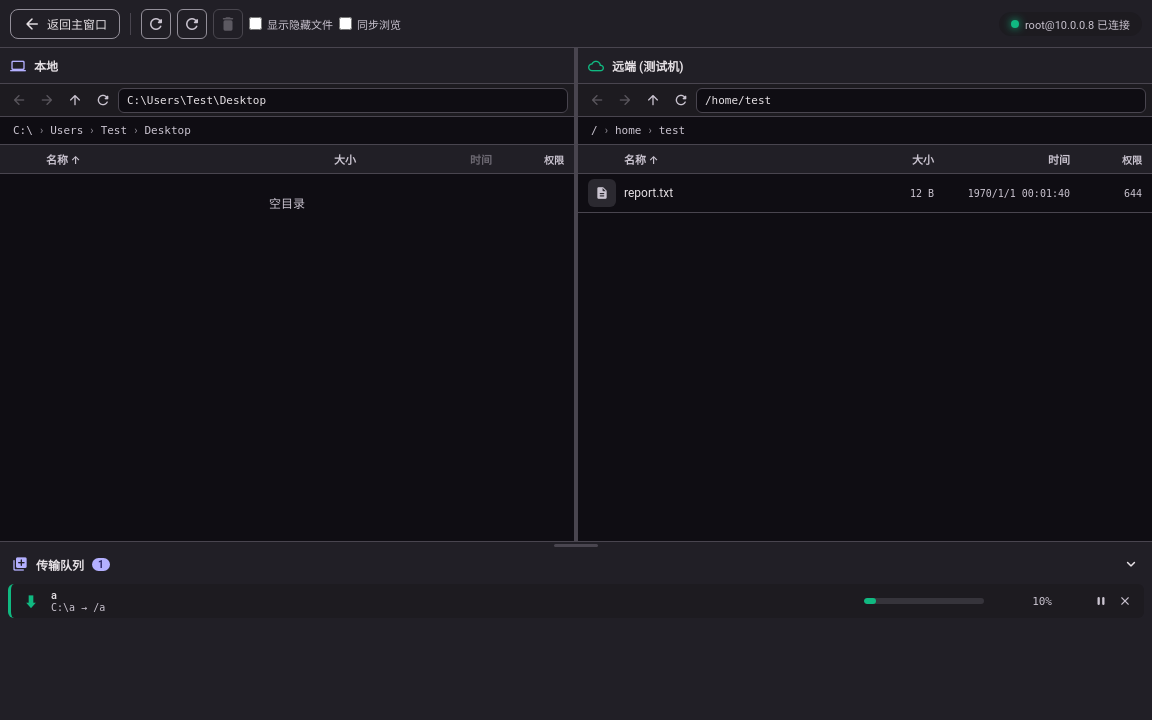
SFTP 传输控制与关闭确认 › 活动任务存在时，返回主窗口前必须确认
Expected: the text "report.txt" is shown, [624, 186, 673, 200]
Click the button "返回主窗口" at (65, 24), box [10, 8, 120, 38]
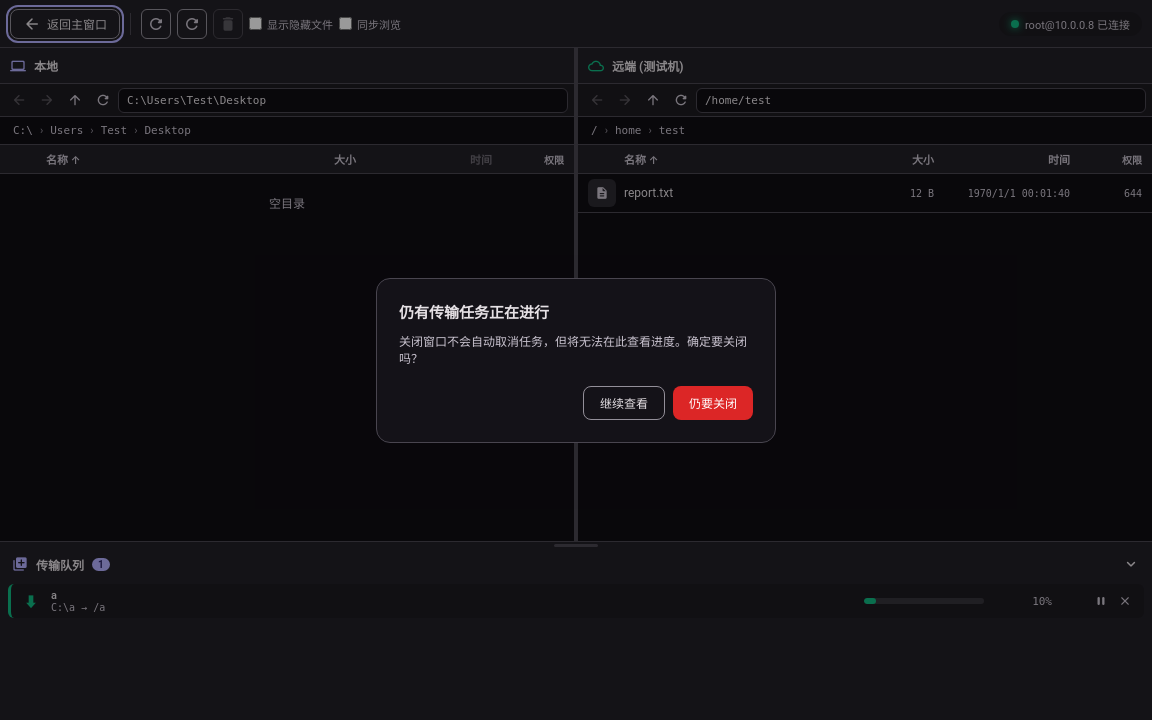
Expected: the dialog named "确认关闭窗口" is shown, [376, 278, 776, 442]
Click the button "继续查看" at (624, 402), box [583, 386, 665, 420]
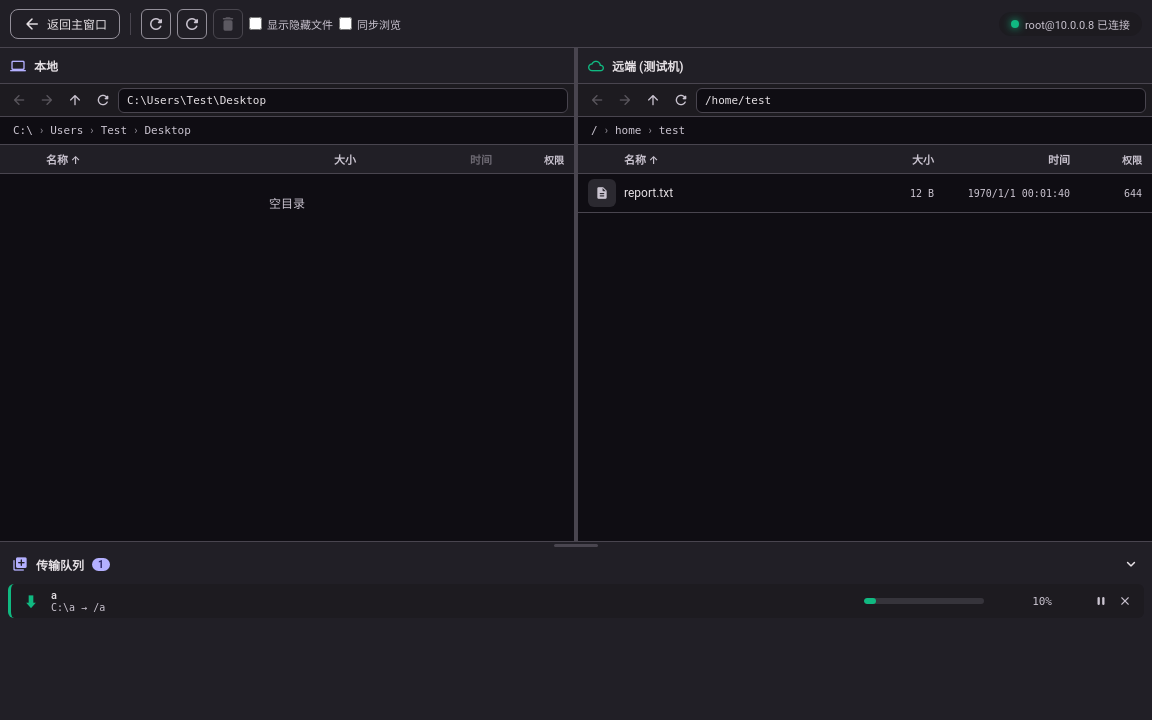
Expected: the dialog "确认关闭窗口" is gone
